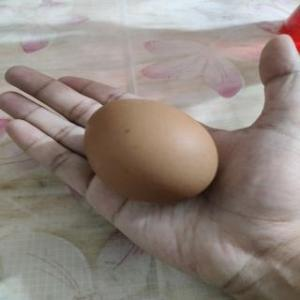egg: (80, 96, 218, 206)
